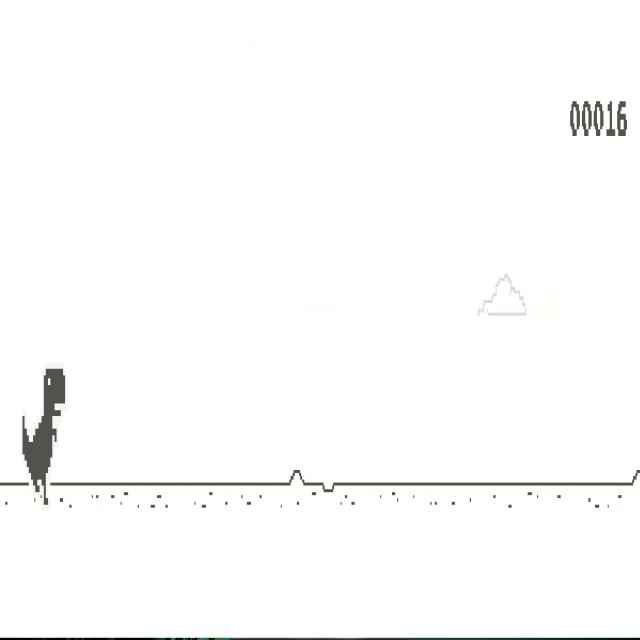dino: (22, 368, 66, 507)
